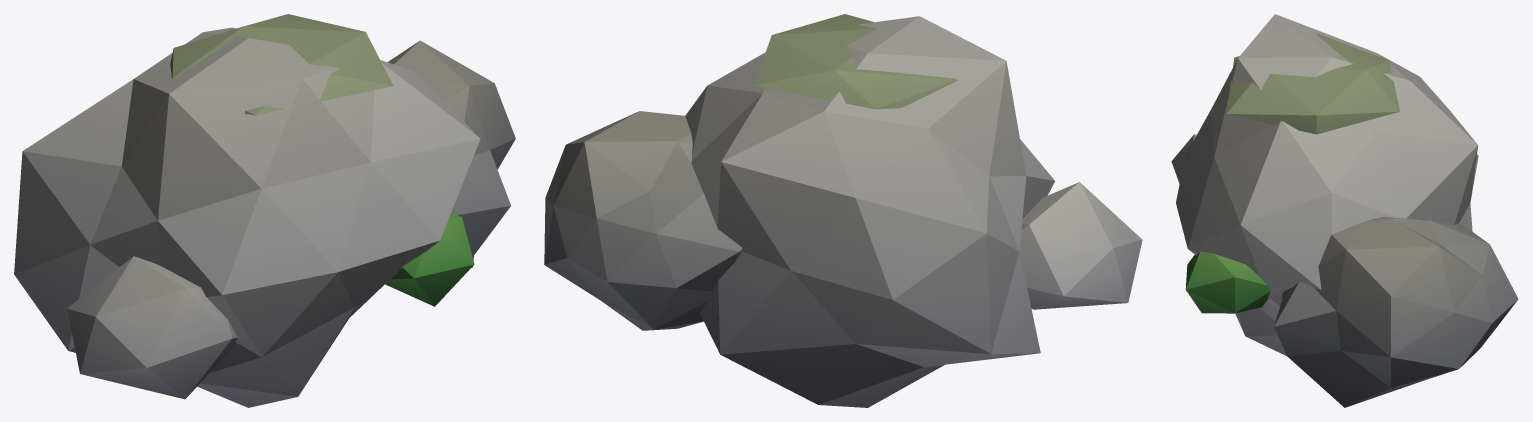
Rendered from rock_large.glb.
3 renders of one model, left to right at view 1: azimuth 30°, elevation 25°; view 2: azimuth 150°, elevation 25°; view 3: azimuth 270°, elevation 25°, orthographic. The views are drawn at different scales.
Visible parts, largest first — view 1: rock_large; view 2: rock_large; view 3: rock_large.
Part boxes in pixels (x1,y1,x2,y2): rock_large: (14, 14, 515, 407); rock_large: (544, 14, 1142, 407); rock_large: (1171, 14, 1518, 407).
Size of the model in its own units: 14.03 by 9.5 by 9.33.
1 material, 1 textured.
